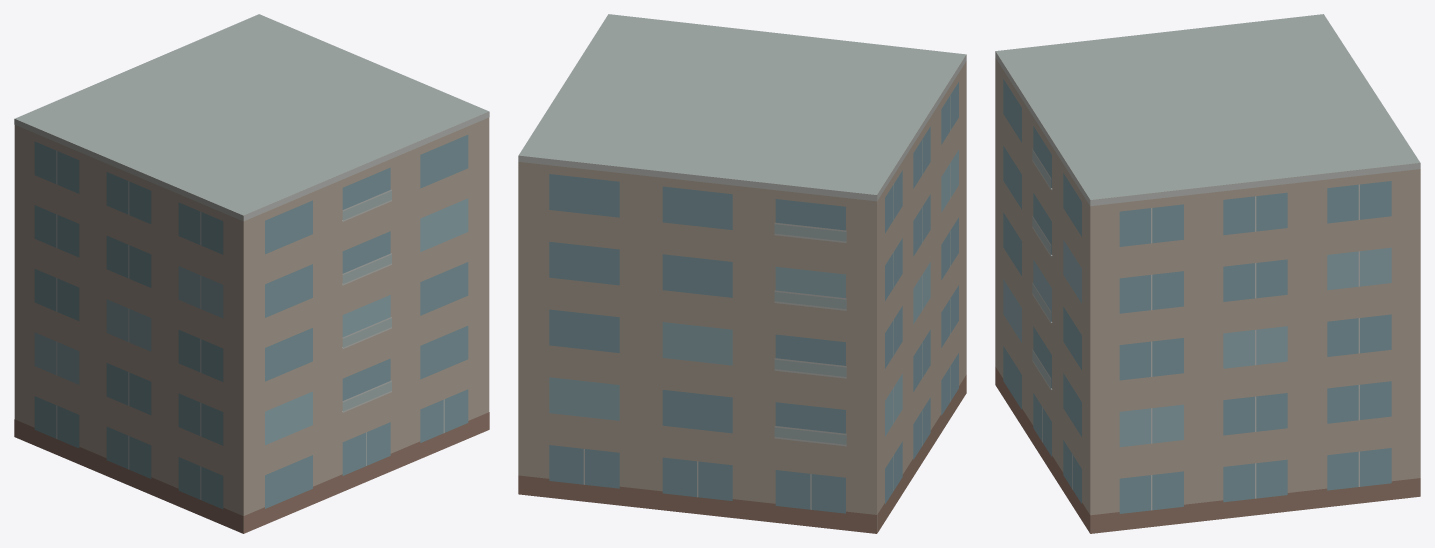
Rendered from survey-upis-32653649.glb.
The picture shows the model from 3 angles, left to right: view 1: azimuth 30°, elevation 25°; view 2: azimuth 150°, elevation 25°; view 3: azimuth 270°, elevation 25°; orthographic projection. The views are drawn at different scales.
Visible parts, largest first — view 1: survey-upis-32653649.tmp; view 2: survey-upis-32653649.tmp; view 3: survey-upis-32653649.tmp.
Part boxes in pixels (x1=…): survey-upis-32653649.tmp: x1=14, y1=14, x2=489, y2=533; survey-upis-32653649.tmp: x1=518, y1=14, x2=966, y2=533; survey-upis-32653649.tmp: x1=995, y1=14, x2=1420, y2=533.
Size of the model in its own units: 15.91 by 13.3 by 15.36.
